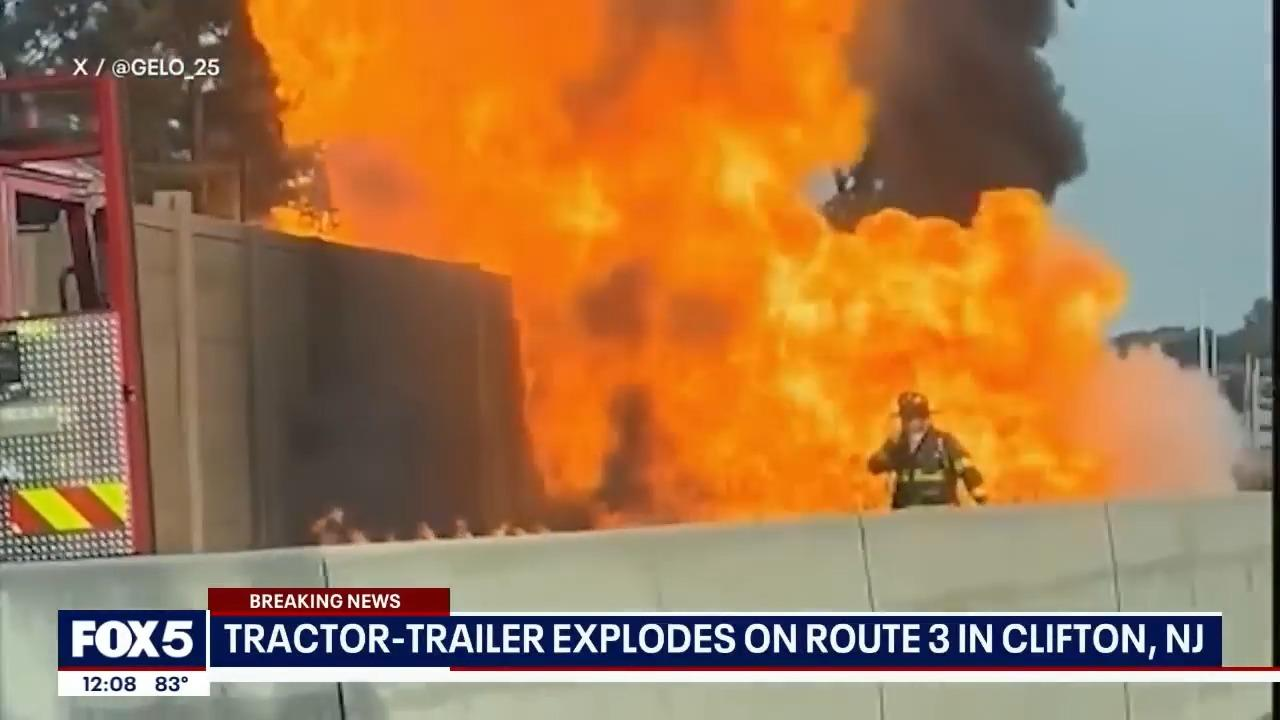fire: (339, 0, 1122, 521)
